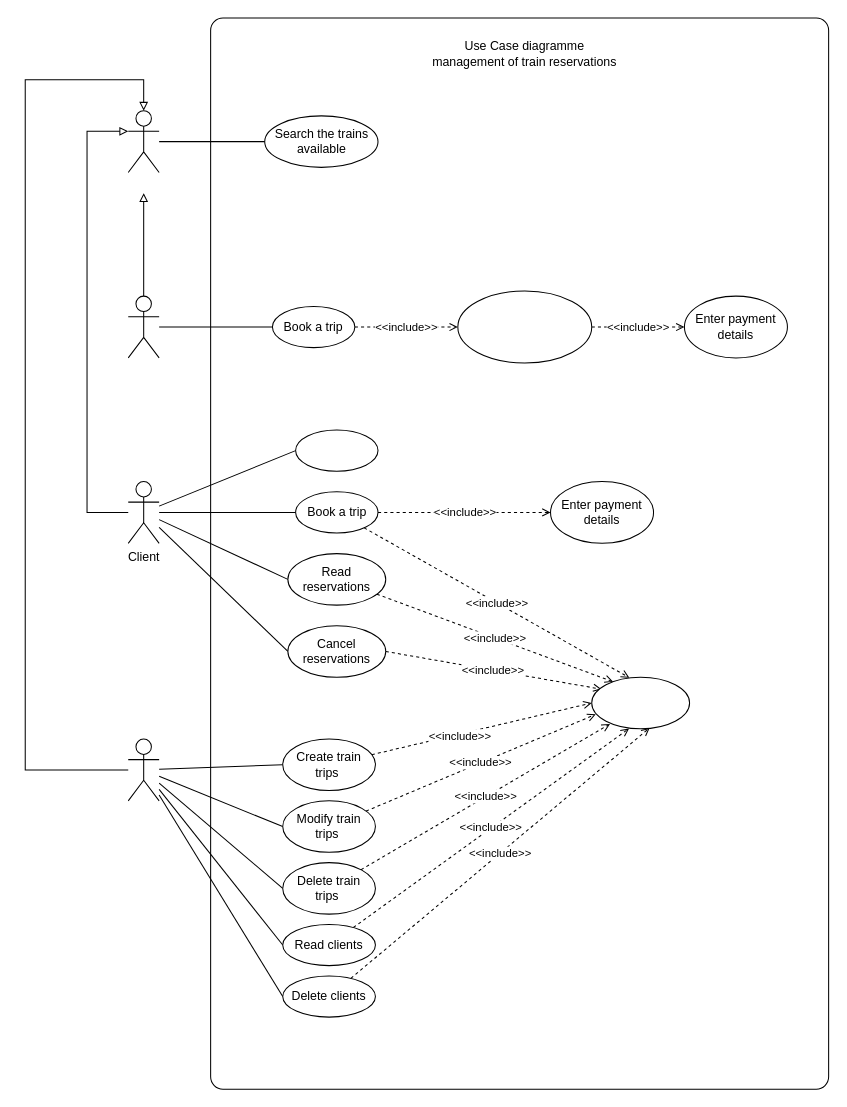
Image size: 847x1107. Some labels were removed from this diagram. The centre of each missing label's shape, as x and y in pixels:
Admin: (x=143, y=769)
Enter the required informations for the ticket: (x=524, y=326)
Guest: (x=143, y=326)
Log In: (x=640, y=702)
Sign up: (x=336, y=450)
User: (x=143, y=141)
